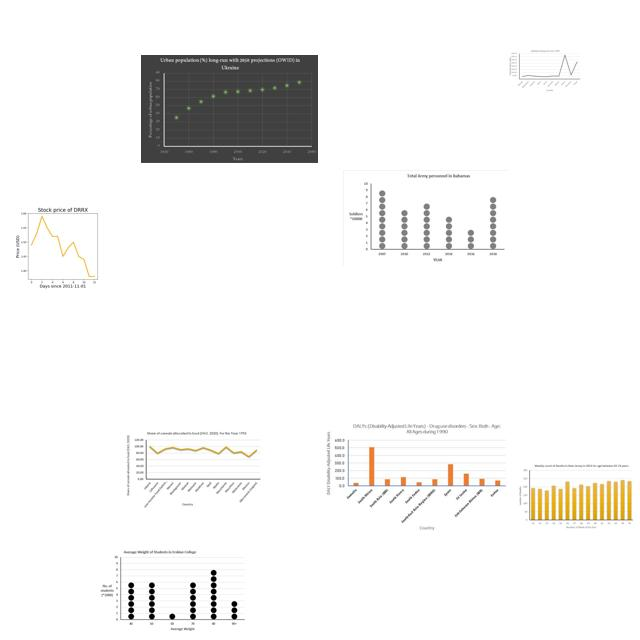Graph: (323, 421, 509, 532), (141, 55, 318, 163), (343, 170, 508, 266), (97, 547, 247, 634), (124, 430, 264, 510), (4, 203, 119, 289), (516, 461, 636, 532), (509, 49, 581, 92)
